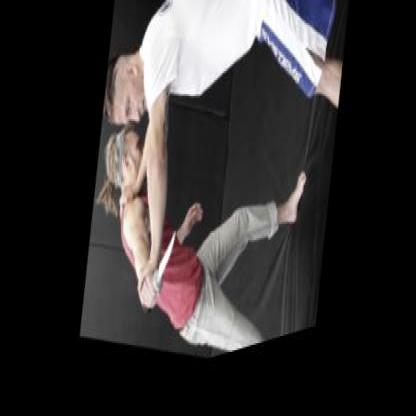knife: (134, 223, 180, 337)
